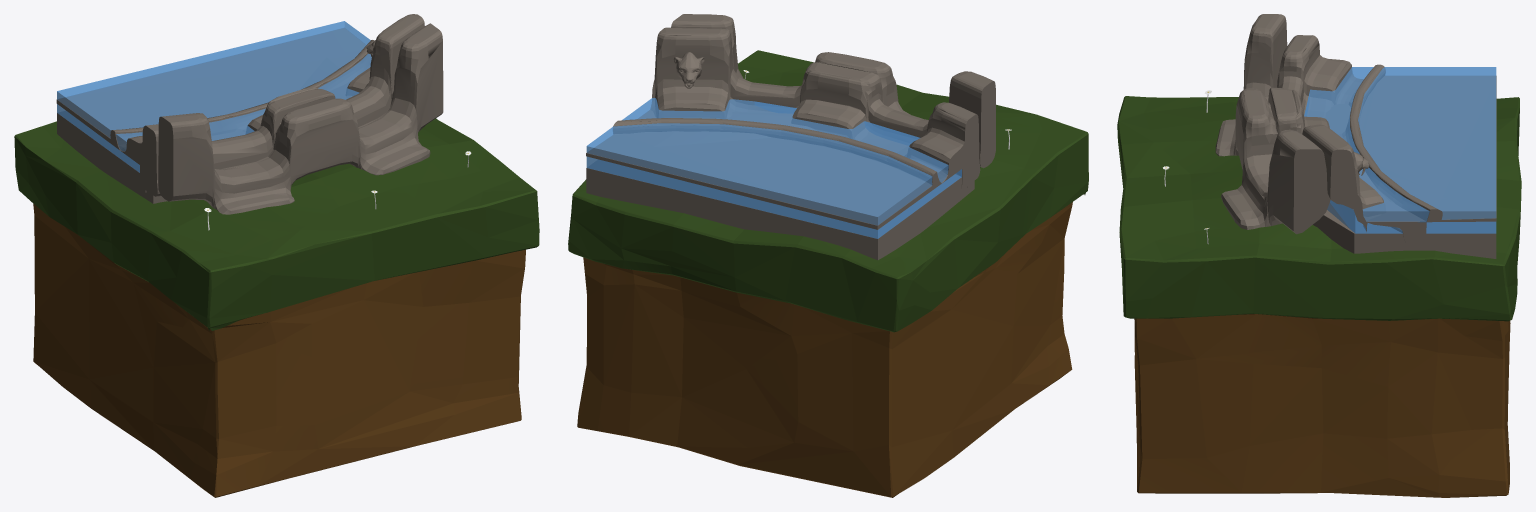
Rendered from R2.min.gltf.
The picture shows the model from 3 angles, left to right: view 1: azimuth 30°, elevation 25°; view 2: azimuth 150°, elevation 25°; view 3: azimuth 270°, elevation 25°; orthographic projection. The views are drawn at different scales.
Visible parts, largest first — view 1: CENTERED.014; view 2: CENTERED.014; view 3: CENTERED.014.
Part boxes in pixels (x1,y1,x2,y2): CENTERED.014: (14, 14, 539, 497); CENTERED.014: (568, 14, 1088, 497); CENTERED.014: (1117, 14, 1521, 497).
Bounding box in the file's own units: 1.07 × 1.03 × 1.09.
